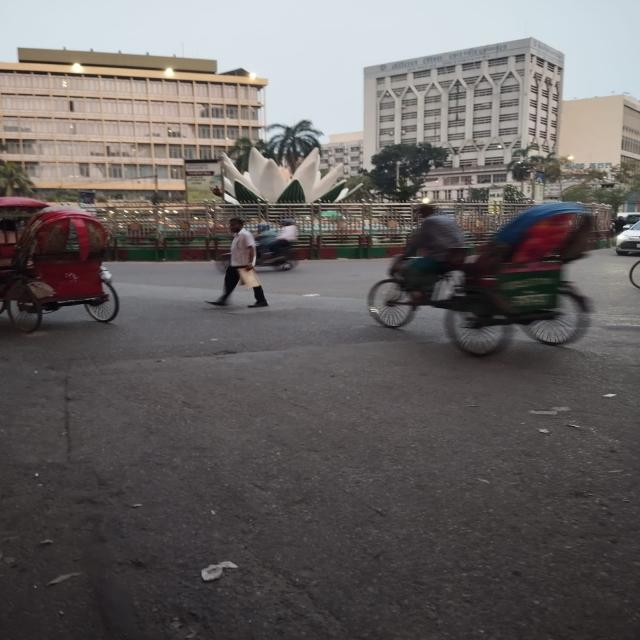person: (206, 216, 273, 313)
